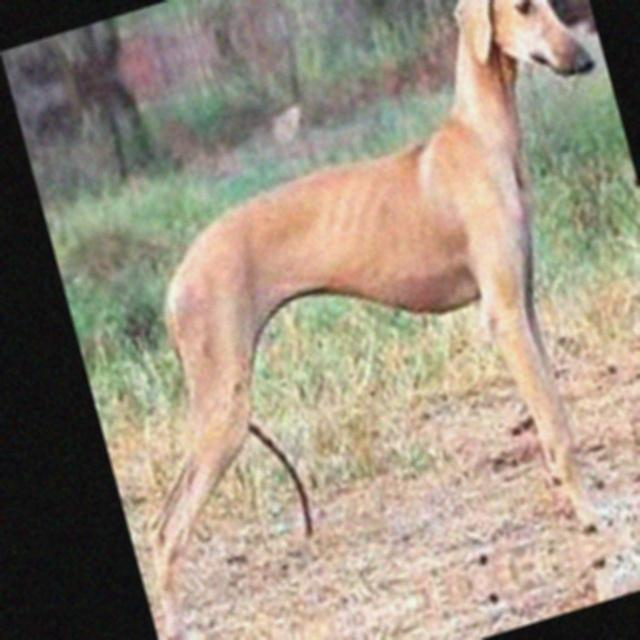dog: (57, 0, 640, 640), (210, 507, 640, 640), (42, 0, 570, 91)
